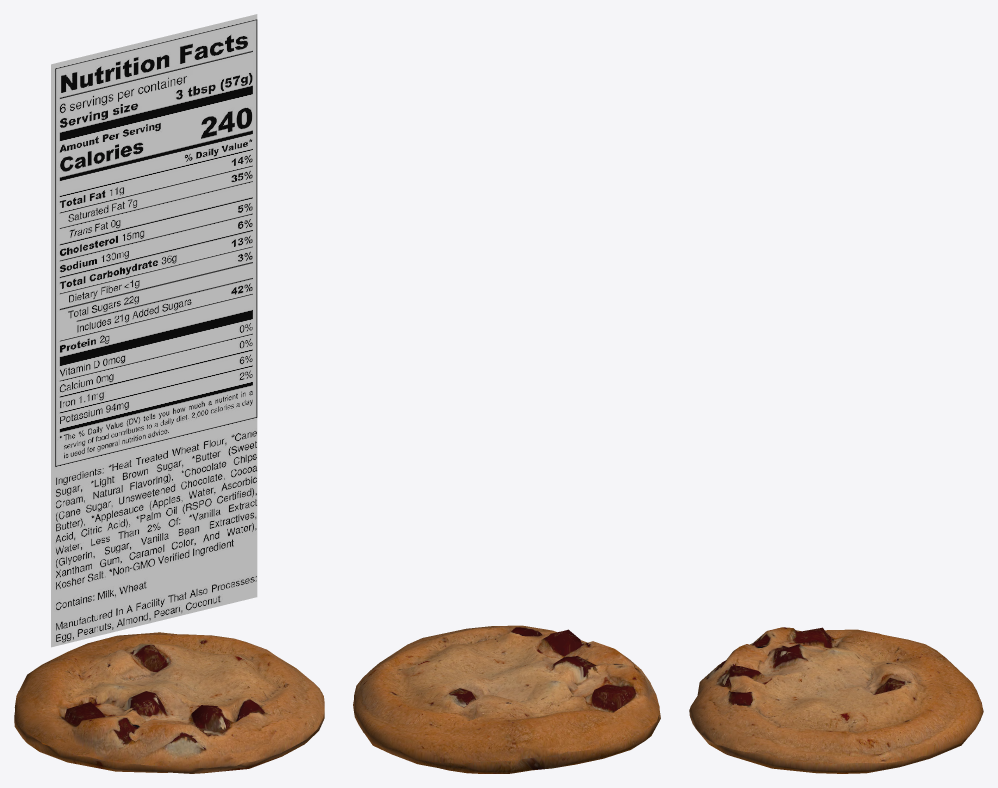
File: Choco.glb
The picture shows the model from 3 angles, left to right: view 1: azimuth 30°, elevation 25°; view 2: azimuth 150°, elevation 25°; view 3: azimuth 270°, elevation 25°; orthographic projection. The views are drawn at different scales.
Parts seen in each view (by area): view 1: Chhoco, CohoChipCookie_re_Material.003_0; view 2: CohoChipCookie_re_Material.003_0; view 3: CohoChipCookie_re_Material.003_0.
Boxes of the visible parts, bbox=[...] form: Chhoco: bbox=[51, 14, 257, 647]; CohoChipCookie_re_Material.003_0: bbox=[14, 632, 324, 773]; CohoChipCookie_re_Material.003_0: bbox=[353, 625, 660, 773]; CohoChipCookie_re_Material.003_0: bbox=[689, 627, 983, 773].
Bounding box in the file's own units: 0.0985 × 0.2332 × 0.0958.
Materials: 2 (2 with a texture image).
